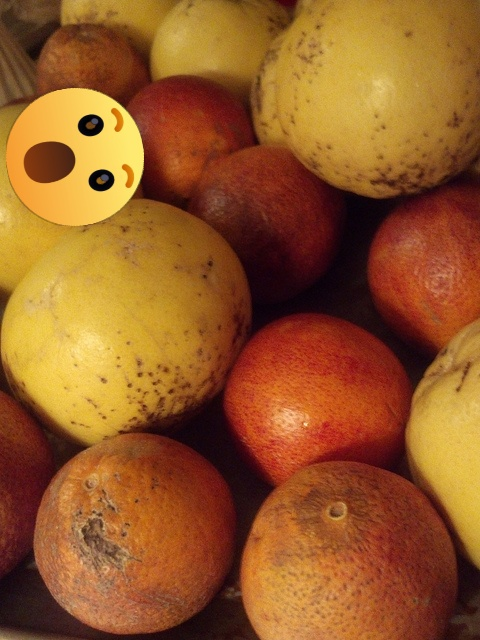wow: (6, 88, 144, 226)
